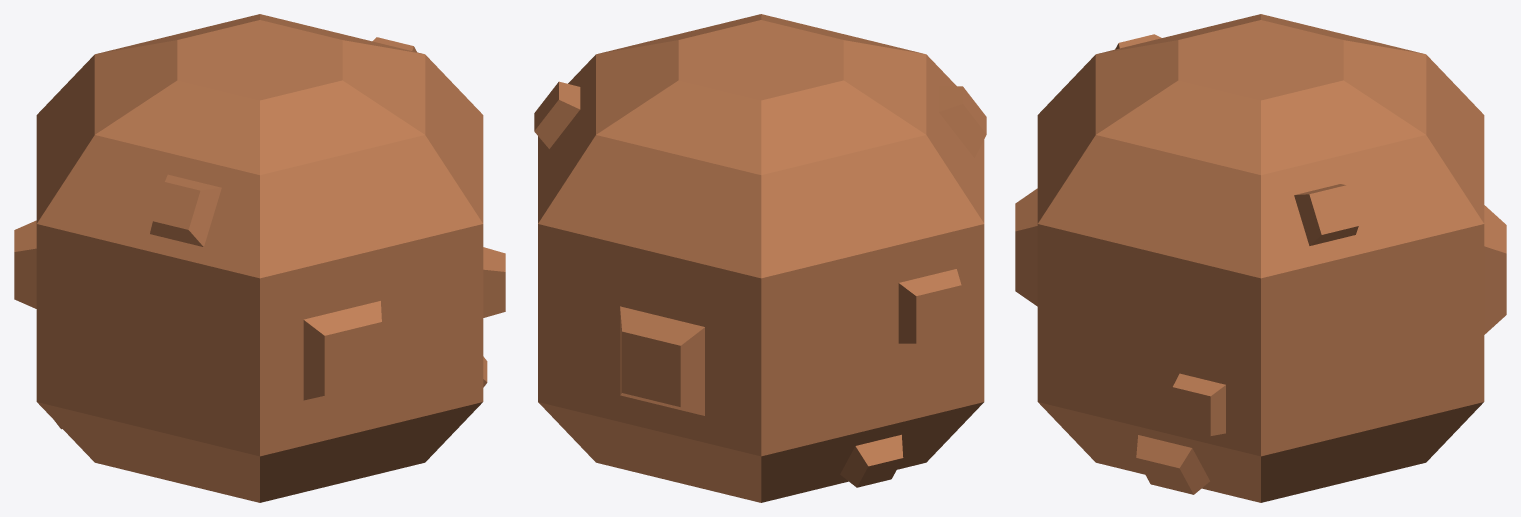
File: meteorfull.glb
3 views of the same model, side by side, from view 1: azimuth 30°, elevation 25°; view 2: azimuth 150°, elevation 25°; view 3: azimuth 270°, elevation 25° (orthographic).
Parts seen in each view (by area): view 1: meteorFull; view 2: meteorFull; view 3: meteorFull.
Part boxes in pixels (x1,y1,x2,y2): meteorFull: (14,14,505,502); meteorFull: (534,14,986,502); meteorFull: (1015,14,1506,502).
Bounding box in the file's own units: 11.55 × 9.8 × 11.
